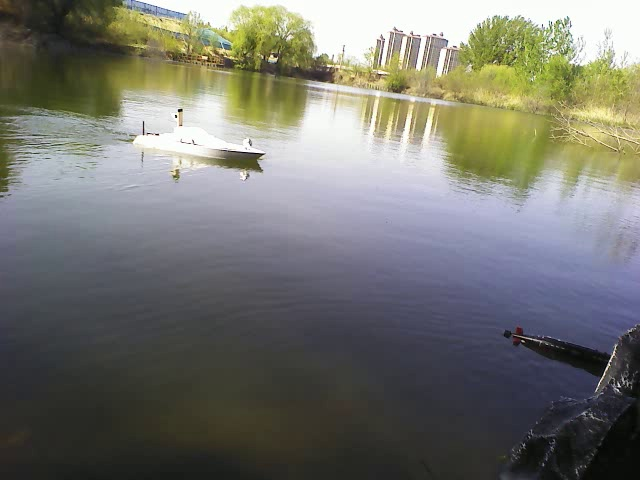boat: (133, 124, 269, 171)
rock: (487, 333, 636, 472)
submarine: (507, 326, 613, 369)
